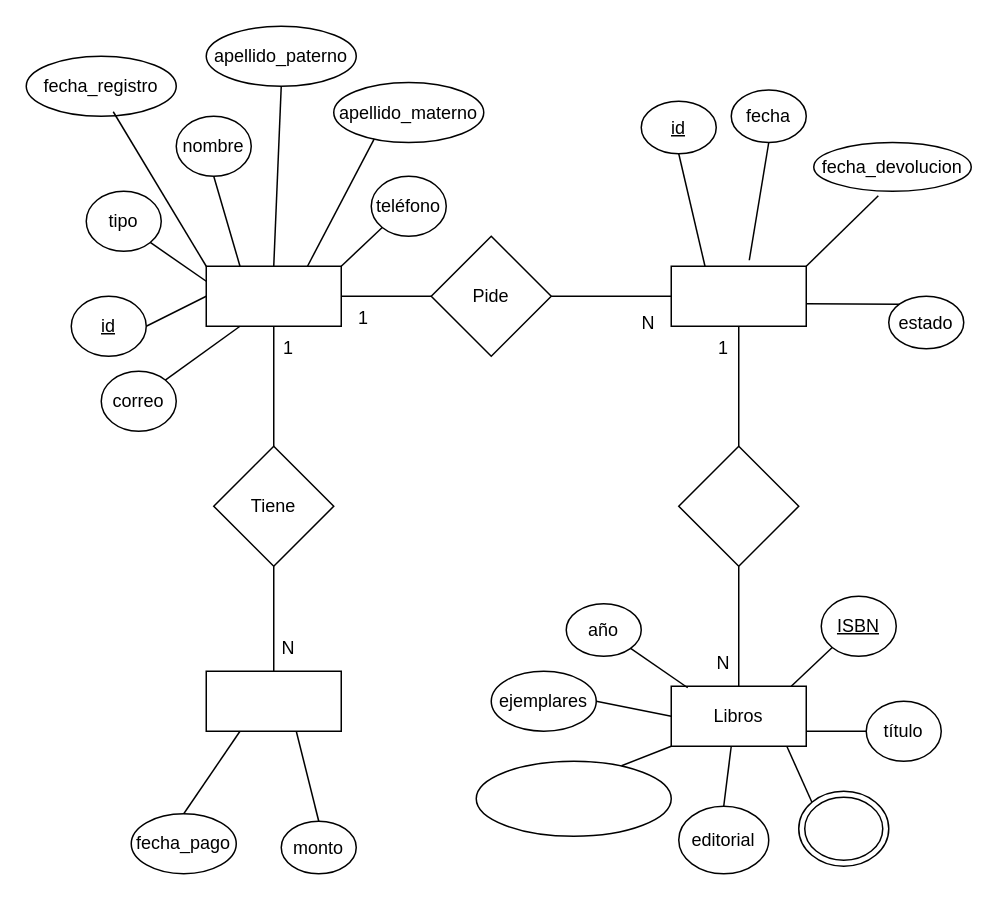
This 998x900 diagram has some shape labels left out. The shapes that lost their labels are listed below. From the top down, each one's box as (x1, y1, x2, y2) in pixels, then its label:
(205, 265, 341, 326): Usuarios
(670, 265, 806, 326): Préstamos
(677, 445, 799, 566): Contiene
(205, 670, 341, 731): Multas
(475, 760, 671, 836): ejemplares_prestados
(797, 790, 889, 866): autor
